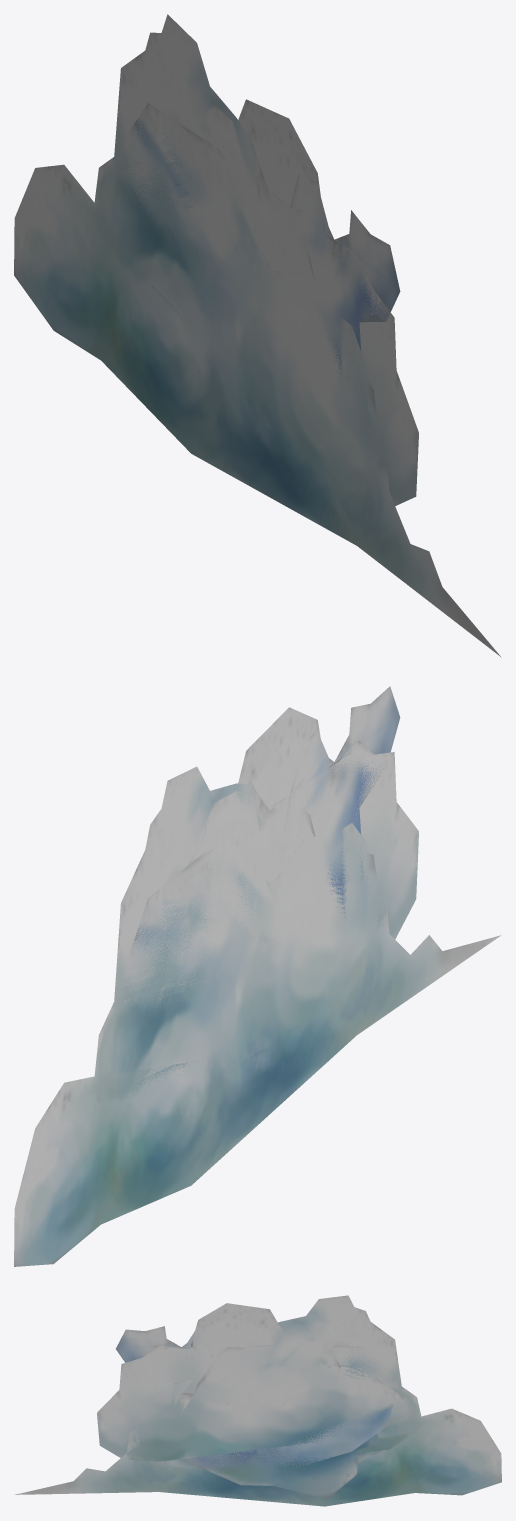
File: cloud.fbx
3 views of the same model, one above another, from view 1: azimuth 30°, elevation 25°; view 2: azimuth 150°, elevation 25°; view 3: azimuth 270°, elevation 25° (orthographic). The views are drawn at different scales.
Parts seen in each view (by area): view 1: cloud01, cloud04, cloud03, cloud02, cloud05; view 2: cloud01, cloud04, cloud03, cloud02, cloud05; view 3: cloud03, cloud01, cloud04, cloud02, cloud05.
Part boxes in pixels (left/top/right/bottom): cloud01: left=14, top=14, right=501, bottom=657; cloud04: left=116, top=103, right=400, bottom=394; cloud03: left=97, top=99, right=418, bottom=506; cloud02: left=159, top=105, right=381, bottom=464; cloud05: left=184, top=142, right=331, bottom=262; cloud01: left=14, top=766, right=501, bottom=1266; cloud04: left=118, top=686, right=400, bottom=1006; cloud03: left=97, top=707, right=418, bottom=1109; cloud02: left=141, top=783, right=378, bottom=1097; cloud05: left=175, top=730, right=331, bottom=962; cloud03: left=97, top=1303, right=416, bottom=1498; cloud01: left=14, top=1295, right=501, bottom=1506; cloud04: left=116, top=1326, right=400, bottom=1471; cloud02: left=133, top=1342, right=382, bottom=1469; cloud05: left=184, top=1324, right=340, bottom=1474.
Size of the model in its own units: 0.000122 by 766 by 1604.
